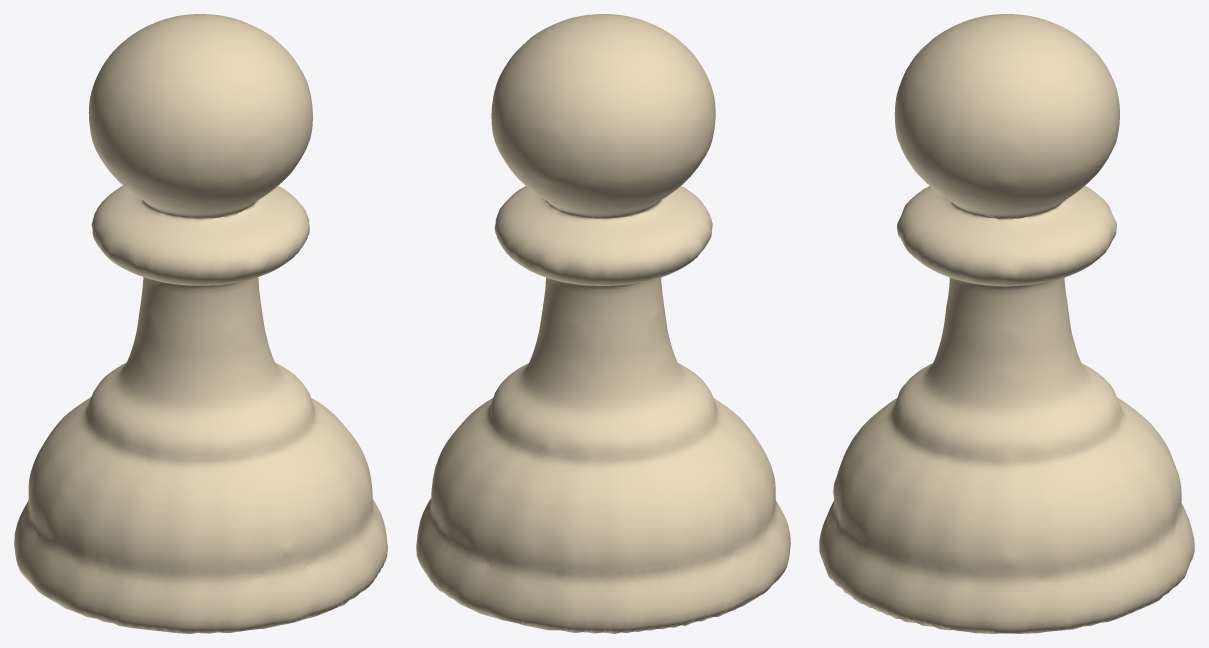
Rendered from KFB_Chess_pawn_light.r1.glb.
The picture shows the model from 3 angles, left to right: view 1: azimuth 30°, elevation 25°; view 2: azimuth 150°, elevation 25°; view 3: azimuth 270°, elevation 25°; orthographic projection.
Parts seen in each view (by area): view 1: KFB_Chess_pawn_light; view 2: KFB_Chess_pawn_light; view 3: KFB_Chess_pawn_light.
Boxes of the visible parts, bbox=[...] form: KFB_Chess_pawn_light: bbox=[14, 14, 387, 633]; KFB_Chess_pawn_light: bbox=[416, 14, 790, 633]; KFB_Chess_pawn_light: bbox=[819, 14, 1194, 633].
Size of the model in its own units: 1.9 by 2.95 by 1.89.
